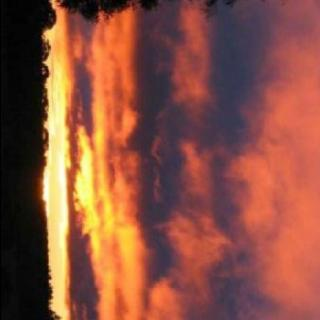Stratocumulus: (61, 0, 320, 320)
